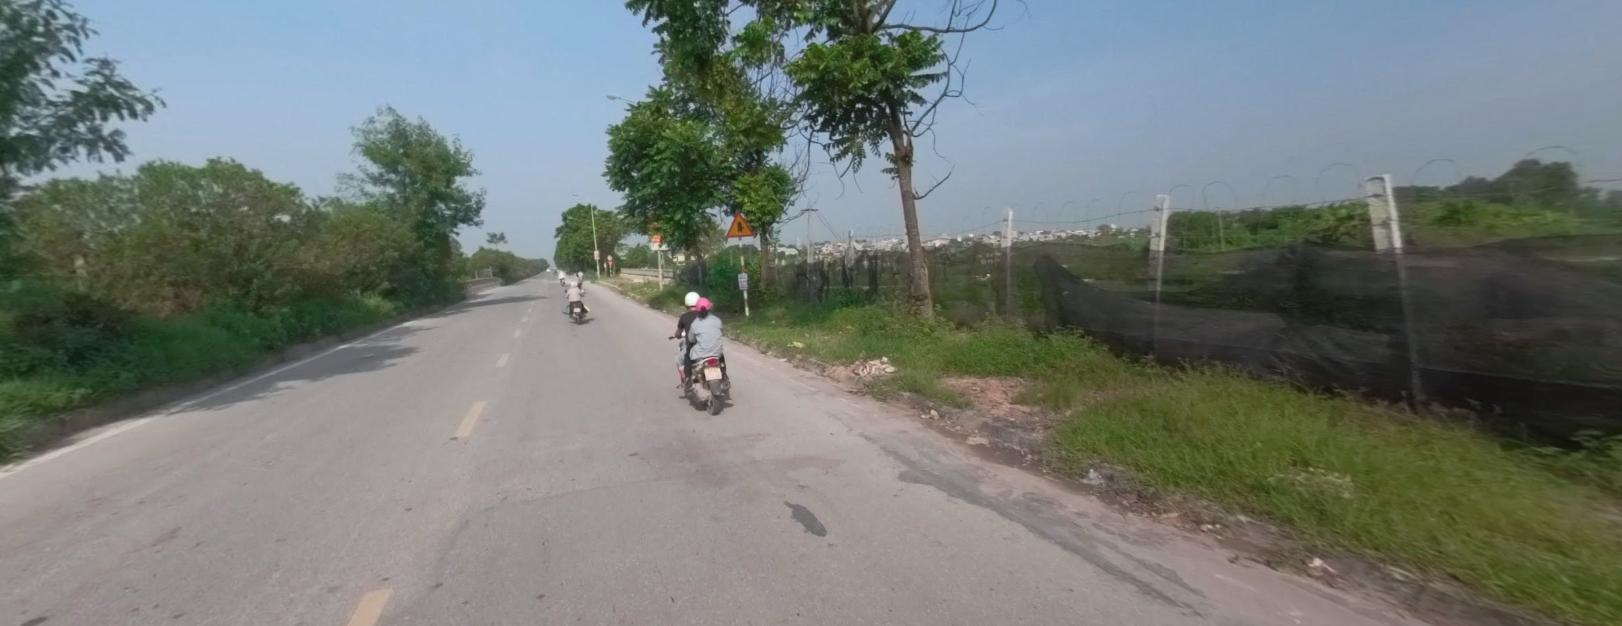Nguy hiem: (726, 209, 754, 235)
